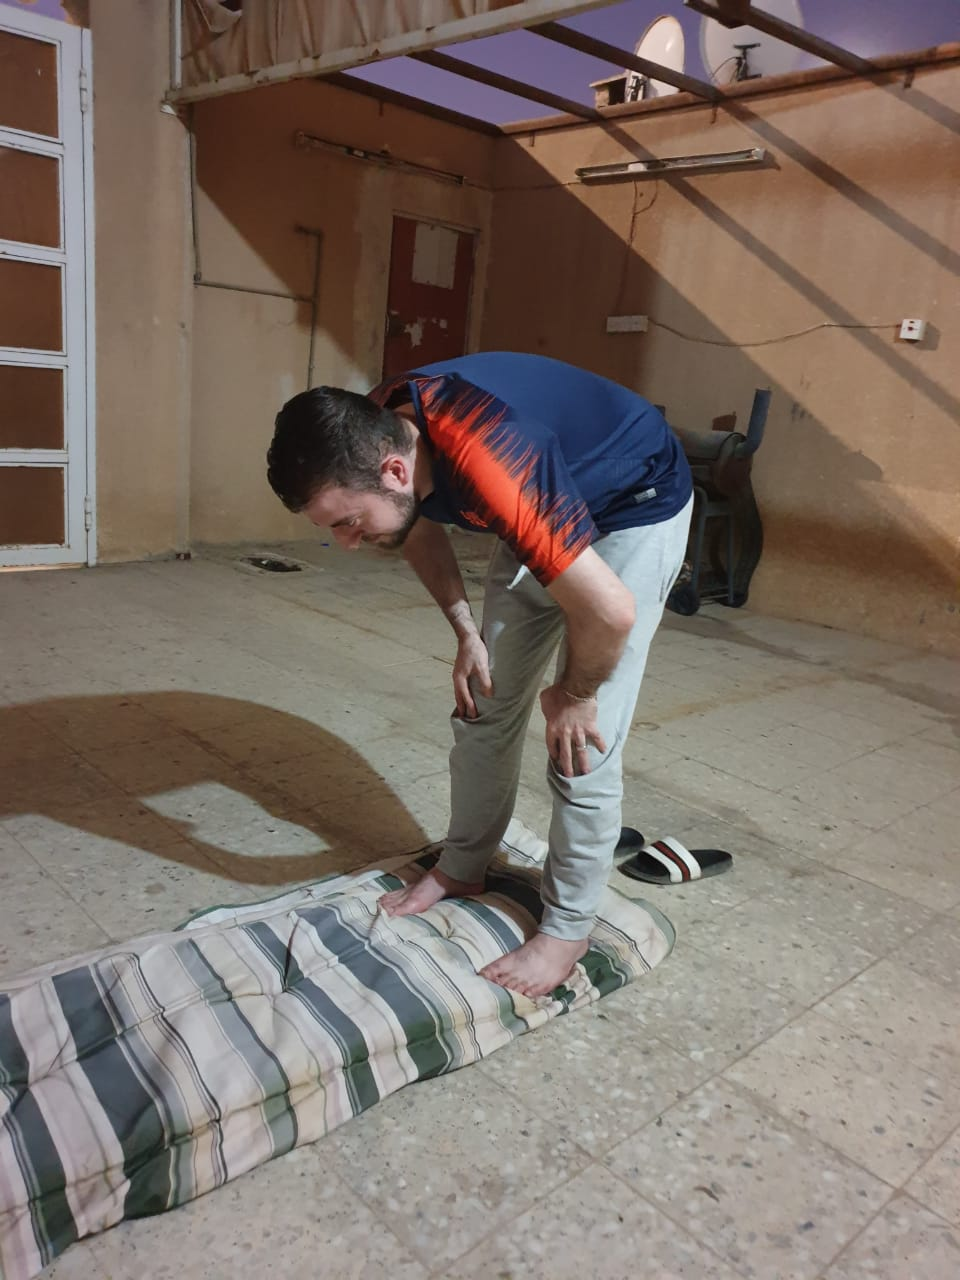ruku: (226, 259, 859, 1181)
